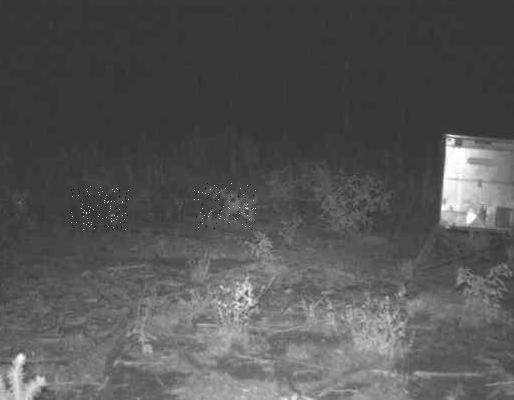Hog: (193, 183, 256, 229), (70, 186, 128, 230)
